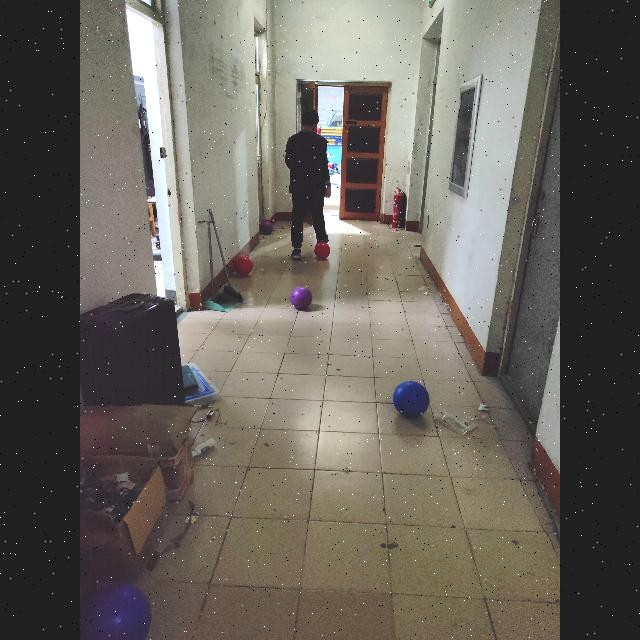B: (80, 580, 152, 640)
P: (394, 381, 431, 419), (290, 287, 312, 309), (260, 220, 274, 233)
R: (234, 256, 252, 276), (314, 243, 330, 259)
